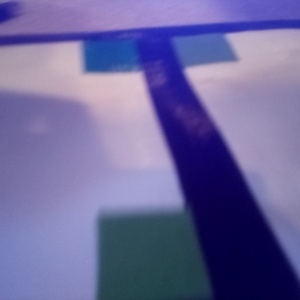top_right: (202, 45, 295, 85)
